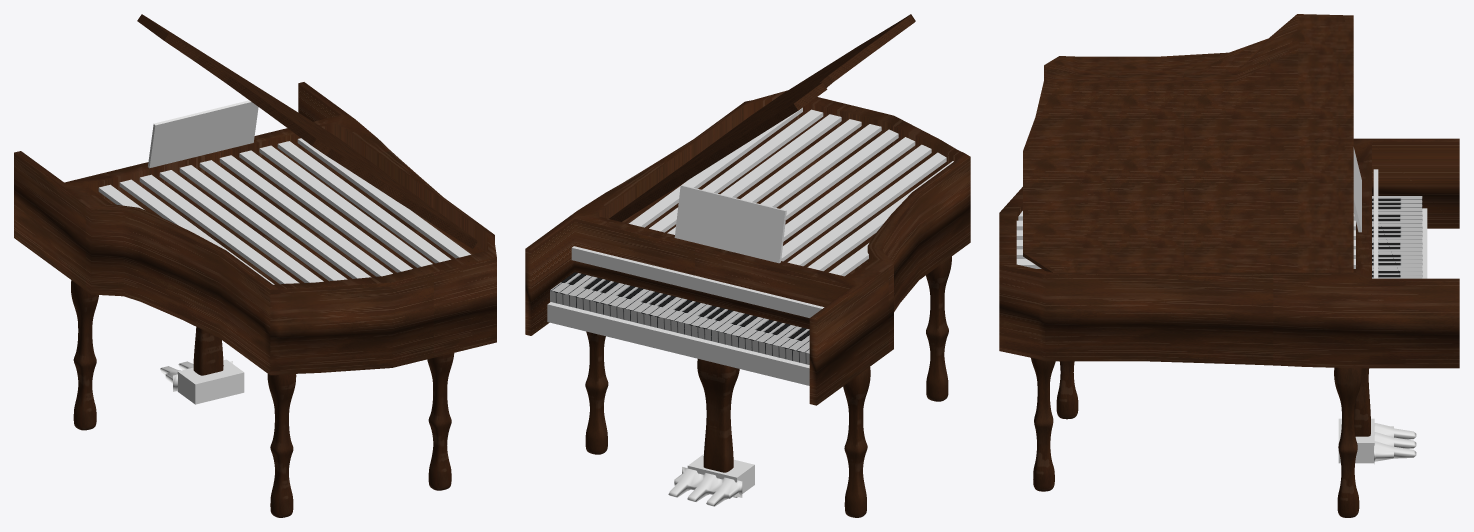
The model's file is pianino.fbx.
3 views of the same model, side by side, from view 1: azimuth 30°, elevation 25°; view 2: azimuth 150°, elevation 25°; view 3: azimuth 270°, elevation 25° (orthographic).
Visible parts, largest first — view 1: Cube, Cube.013, Cube.007, Cube.001, Cube.008, Cube.002, Cube.009; view 2: Cube, Cube.013, Cube.011, Cube.007, Cube.001, Cube.008, Cube.003, Cube.012, Cube.009, Cube.010, Cube.002; view 3: Cube.001, Cube, Cube.007, Cube.011, Cube.010, Cube.009, Cube.002, Cube.012, Cube.013, Cube.008.
Boxes of the visible parts, x1,y1,x2,y2 form: Cube: [14, 82, 496, 375]; Cube.013: [98, 138, 470, 284]; Cube.007: [71, 280, 454, 517]; Cube.001: [137, 14, 477, 248]; Cube.008: [148, 100, 258, 168]; Cube.002: [177, 359, 244, 404]; Cube.009: [193, 327, 223, 375]; Cube: [525, 90, 970, 405]; Cube.013: [629, 107, 953, 276]; Cube.011: [550, 272, 809, 364]; Cube.007: [585, 256, 951, 517]; Cube.001: [609, 14, 915, 221]; Cube.008: [674, 185, 786, 263]; Cube.003: [547, 302, 809, 385]; Cube.012: [571, 246, 824, 317]; Cube.009: [697, 359, 739, 472]; Cube.010: [668, 467, 742, 506]; Cube.002: [687, 454, 754, 497]; Cube.001: [1023, 14, 1353, 272]; Cube: [999, 138, 1459, 368]; Cube.007: [1031, 358, 1361, 517]; Cube.011: [1372, 196, 1422, 278]; Cube.010: [1374, 423, 1416, 464]; Cube.009: [1354, 368, 1370, 436]; Cube.002: [1338, 418, 1374, 463]; Cube.012: [1373, 169, 1378, 278]; Cube.013: [1016, 211, 1355, 268]; Cube.008: [1353, 147, 1361, 232].
Size of the model in its own units: 645 by 847 by 877.
